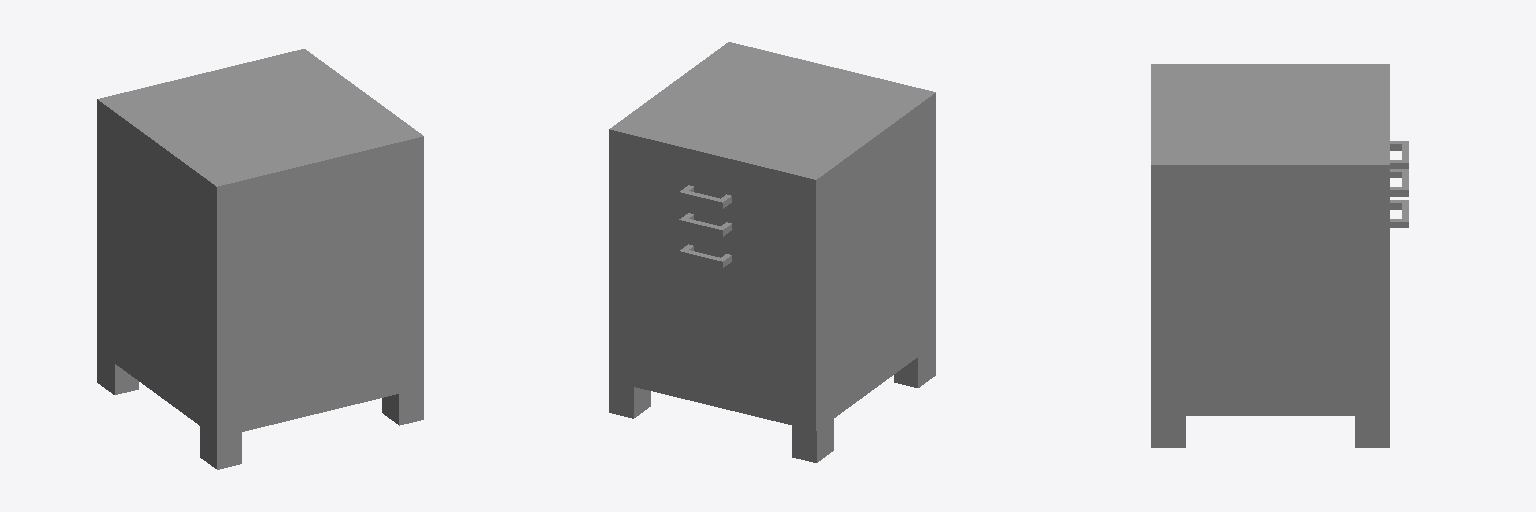
The model's file is mesh_crashcart.obj.
The picture shows the model from 3 angles: view 1: azimuth 30°, elevation 25°; view 2: azimuth 150°, elevation 25°; view 3: azimuth 270°, elevation 25°; orthographic projection.
Parts seen in each view (by area): view 1: Cube.001; view 2: Cube.001; view 3: Cube.001.
Part boxes in pixels (bbox=[...]): Cube.001: bbox=[97, 49, 423, 469]; Cube.001: bbox=[609, 42, 935, 462]; Cube.001: bbox=[1151, 64, 1408, 447].
Size of the model in its own units: 2.03 by 2.65 by 2.19.